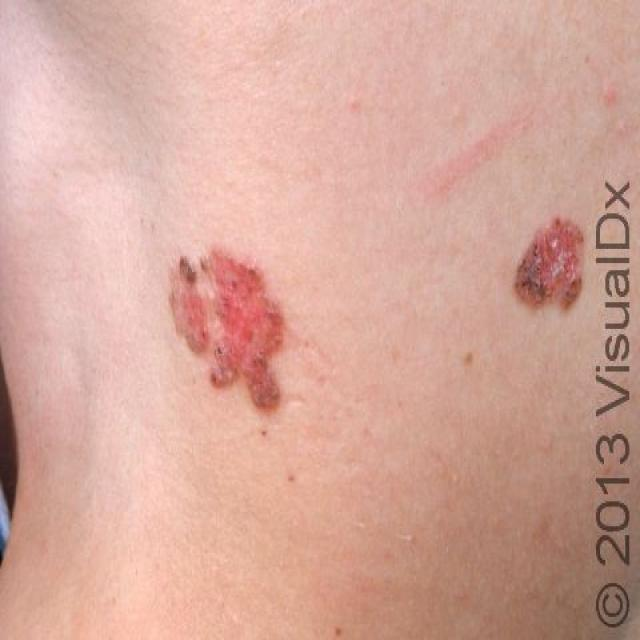Cancer: (151, 226, 307, 448), (509, 208, 593, 318)
